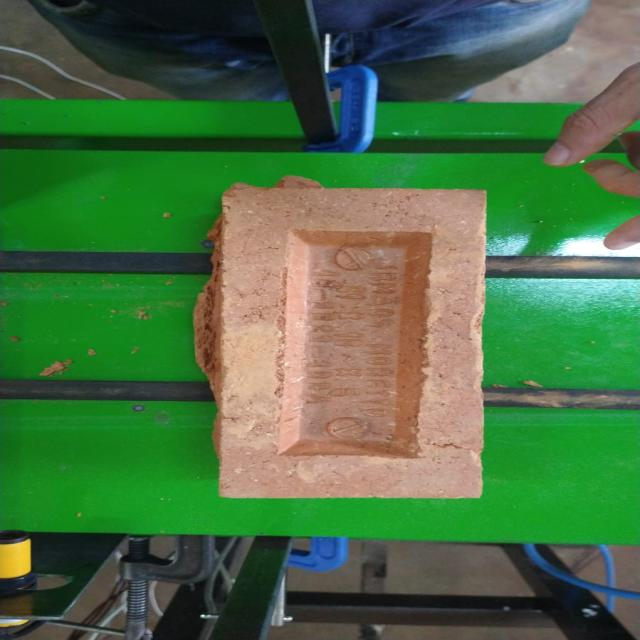bricks_ruin: (196, 174, 486, 501)
